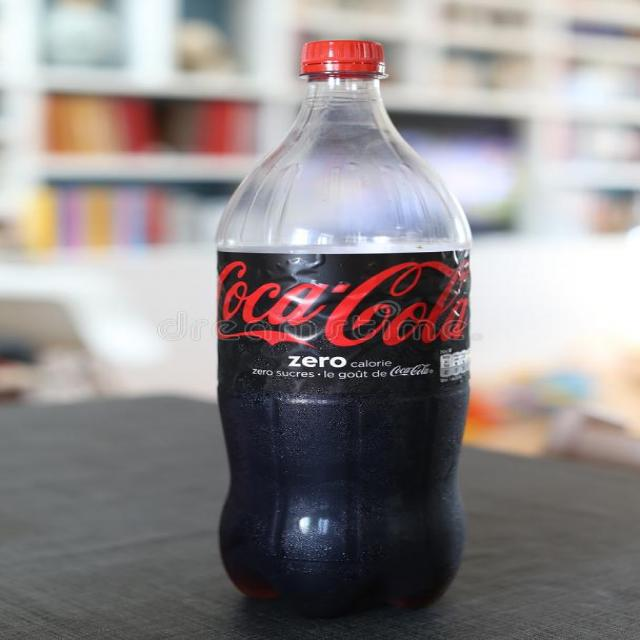Soda: (215, 40, 473, 620)
